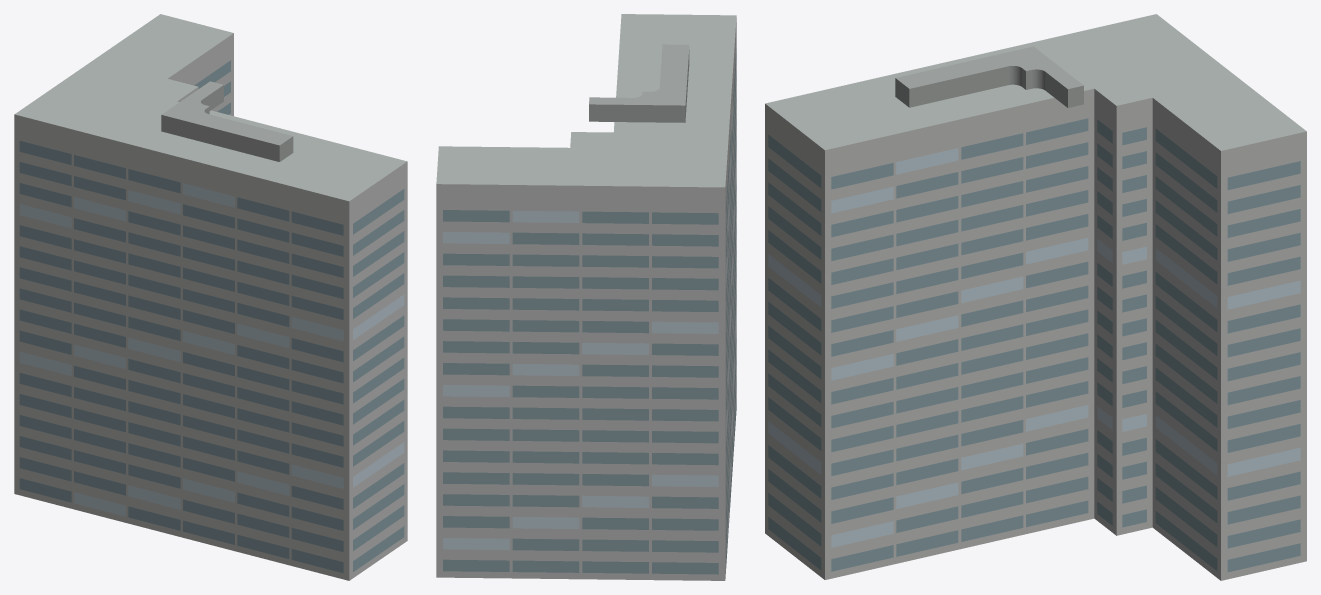
File: fallback-onebailey-123.glb
3 renders of one model, left to right at view 1: azimuth 30°, elevation 25°; view 2: azimuth 150°, elevation 25°; view 3: azimuth 270°, elevation 25°, orthographic. The views are drawn at different scales.
Parts seen in each view (by area): view 1: fallback-onebailey-123; view 2: fallback-onebailey-123; view 3: fallback-onebailey-123.
Part boxes in pixels (<box>): fallback-onebailey-123: <box>14,14,407,580</box>; fallback-onebailey-123: <box>436,14,736,580</box>; fallback-onebailey-123: <box>765,14,1306,580</box>.
Bounding box in the file's own units: 37.33 × 57 × 62.36.
